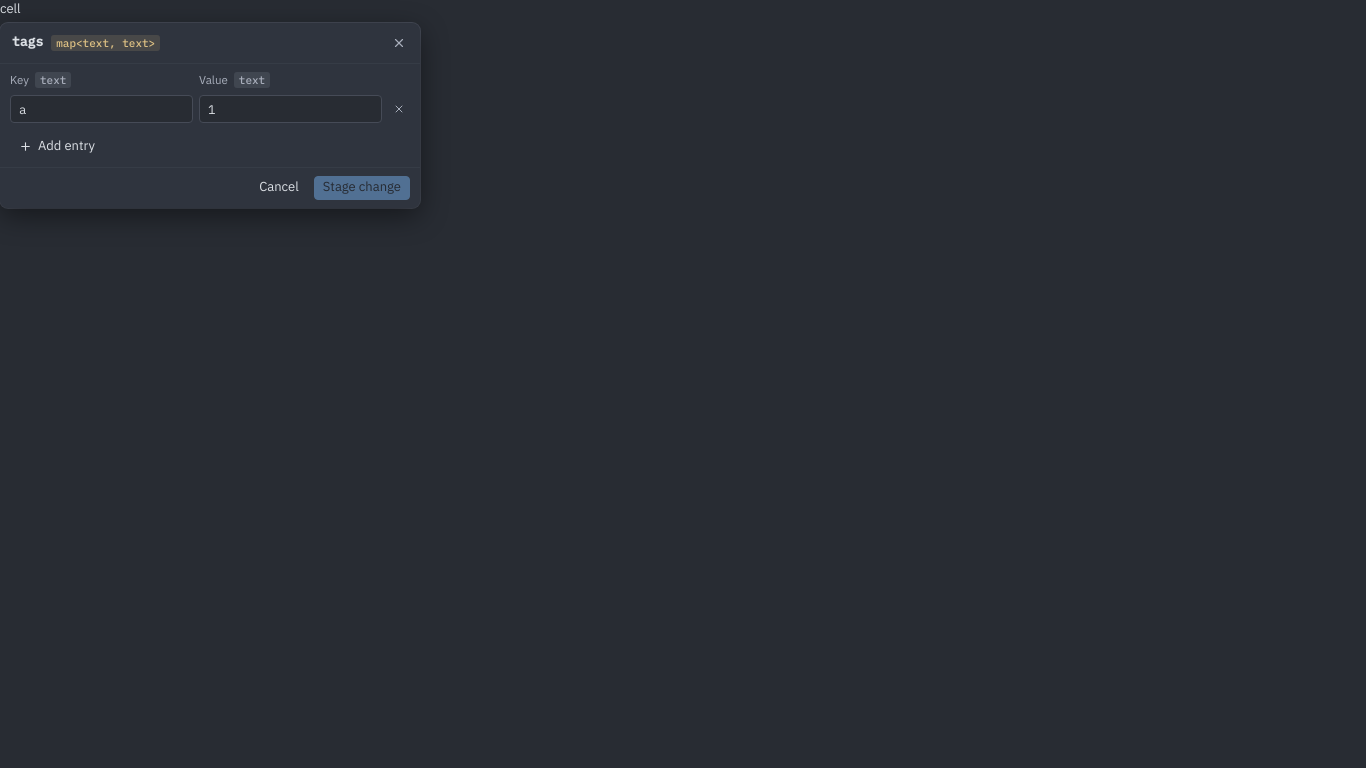
it: CollectionPopover › blocks staging while a map has a duplicate key
Click the button "Add entry": {"x": 57, "y": 146} [10,134,104,158]
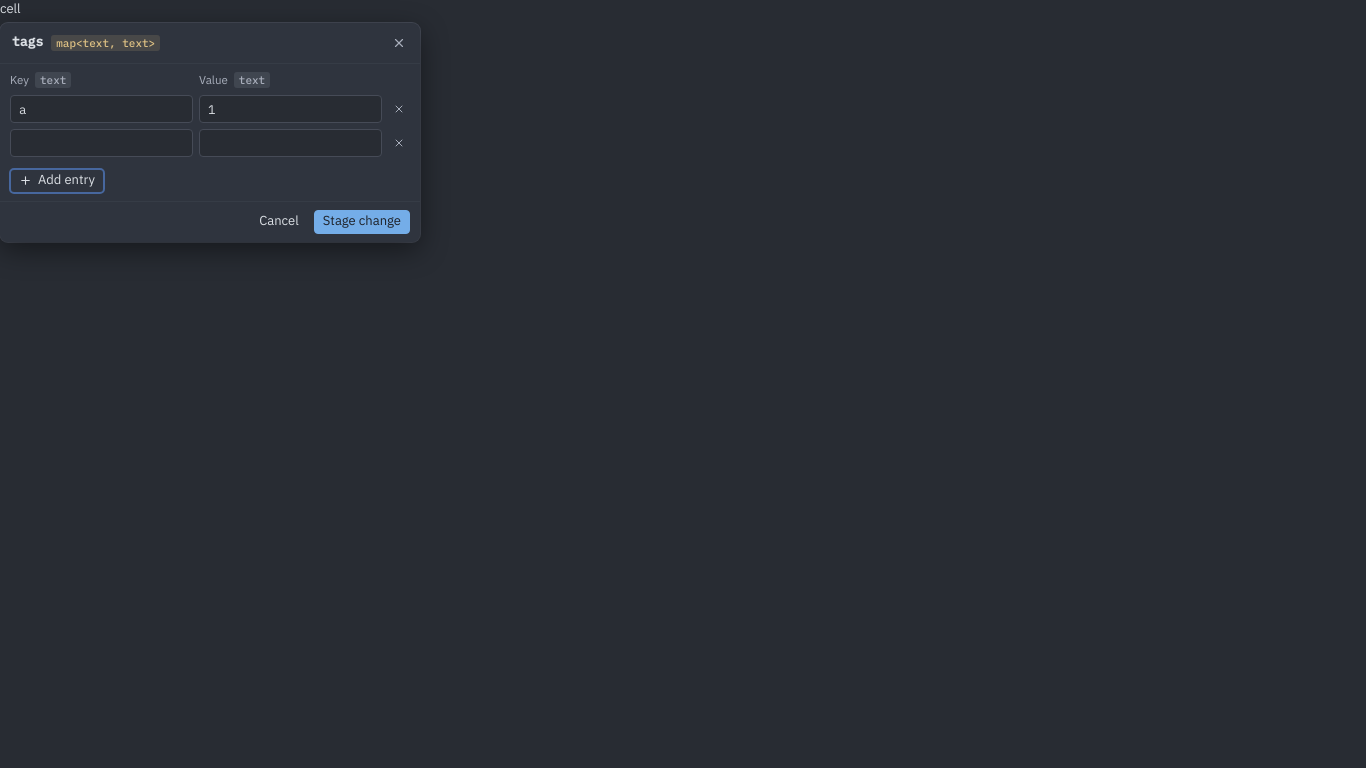
In the field named "Key 1": {"x": 102, "y": 142} [10,128,193,156], type "a"
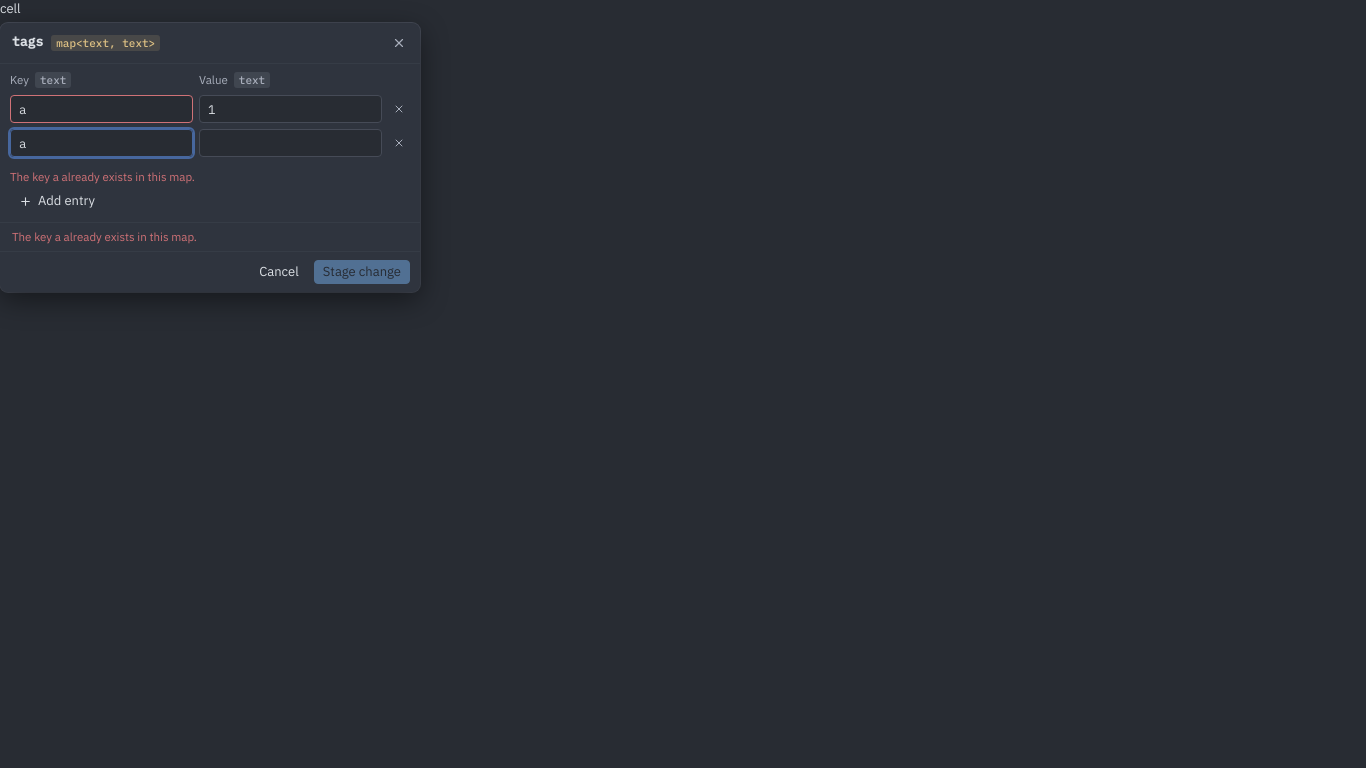
Now the message "The key a already exists in this map." below "Value" is shown, box [10,168,195,184]
Now the button "Stage change" is disabled, box [314,260,410,284]
In the field named "Key 1": {"x": 102, "y": 142} [10,128,193,156], type "b"
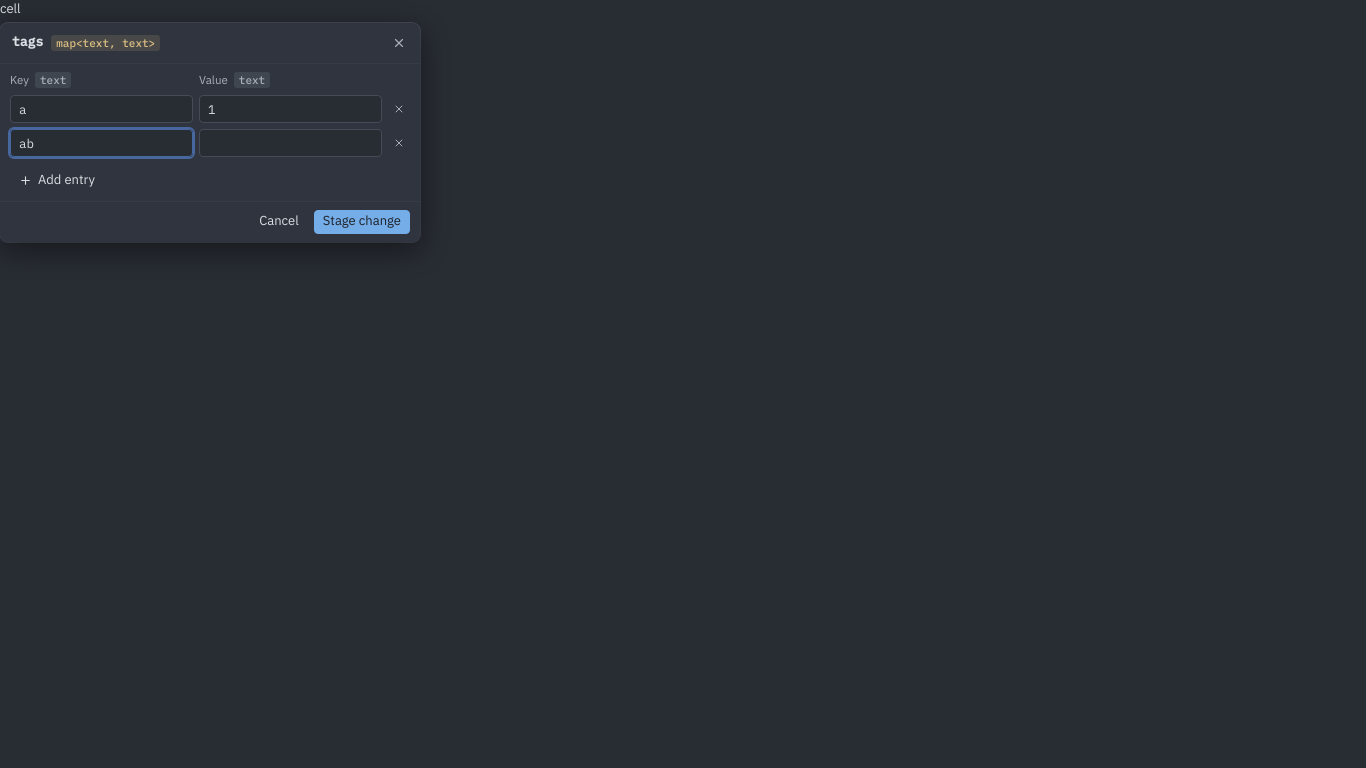
Now the button "Stage change" is enabled, box [314,210,410,234]
